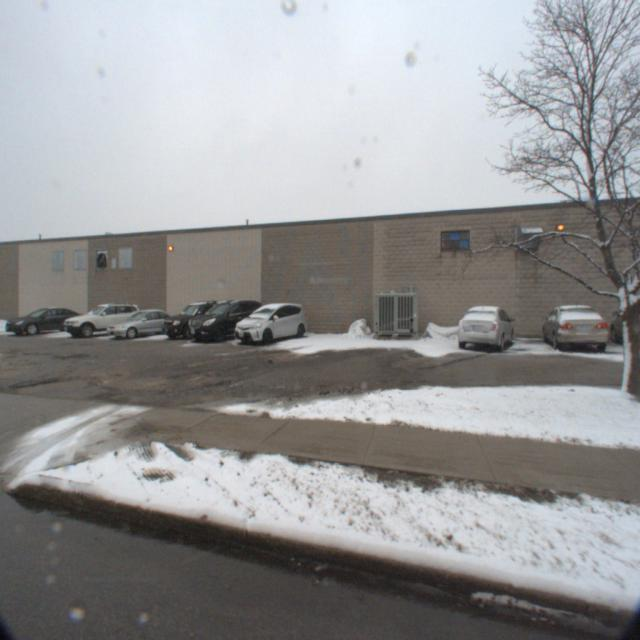Car: (178, 296, 268, 346), (536, 299, 610, 354), (227, 300, 311, 346), (153, 296, 235, 342), (53, 300, 143, 340), (450, 300, 510, 355), (98, 306, 184, 342)
